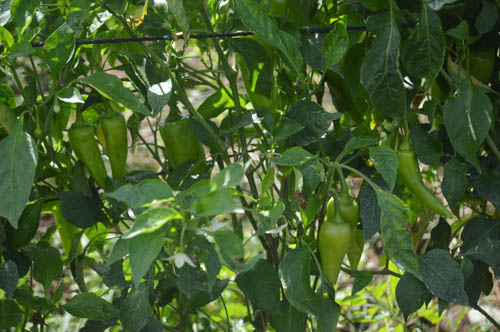ChiliPepper: (394, 157, 452, 221), (316, 221, 349, 290), (67, 127, 106, 181), (101, 115, 132, 175), (165, 117, 200, 170), (319, 198, 365, 229)
